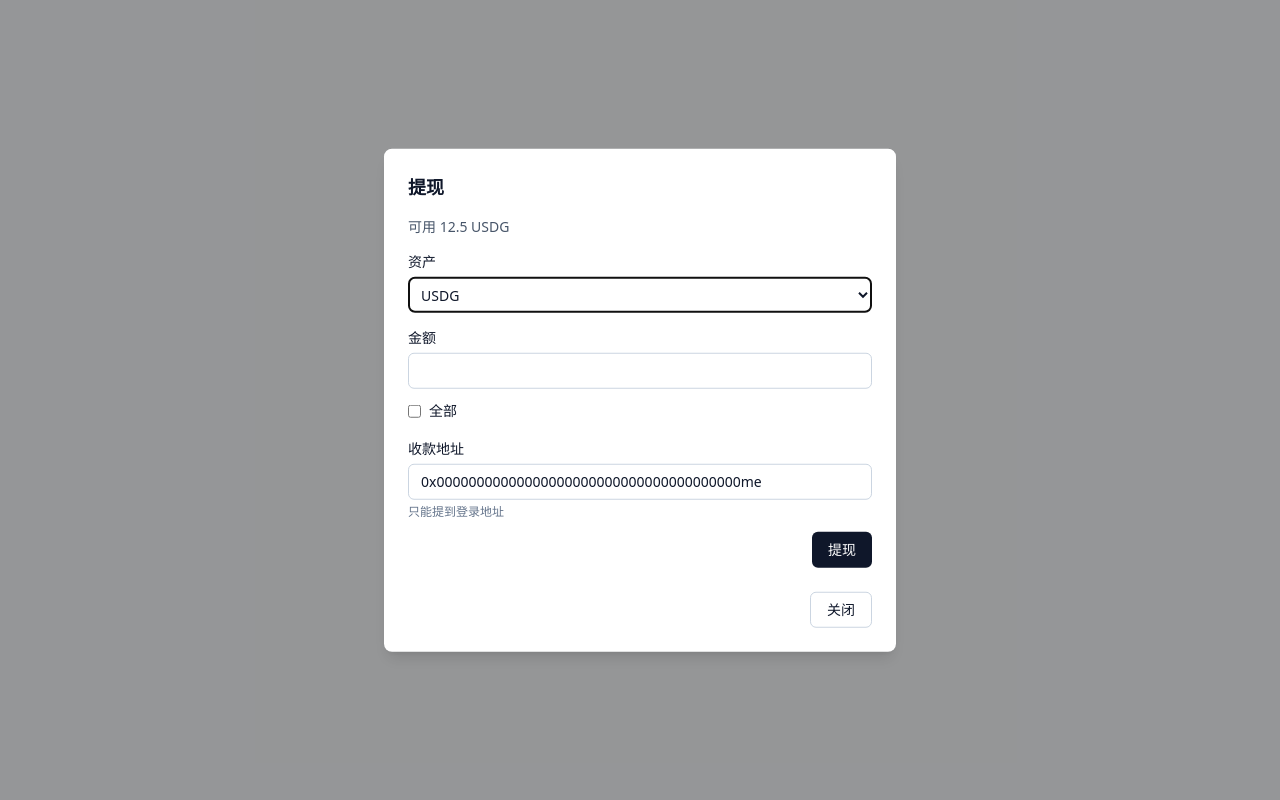
Test: shows mapped 400 errors and FAILED with the backend error text
The image size is (1280, 800).
Type "1" into the field labelled "金额". click: (640, 371)
box: [408,353,872,389]
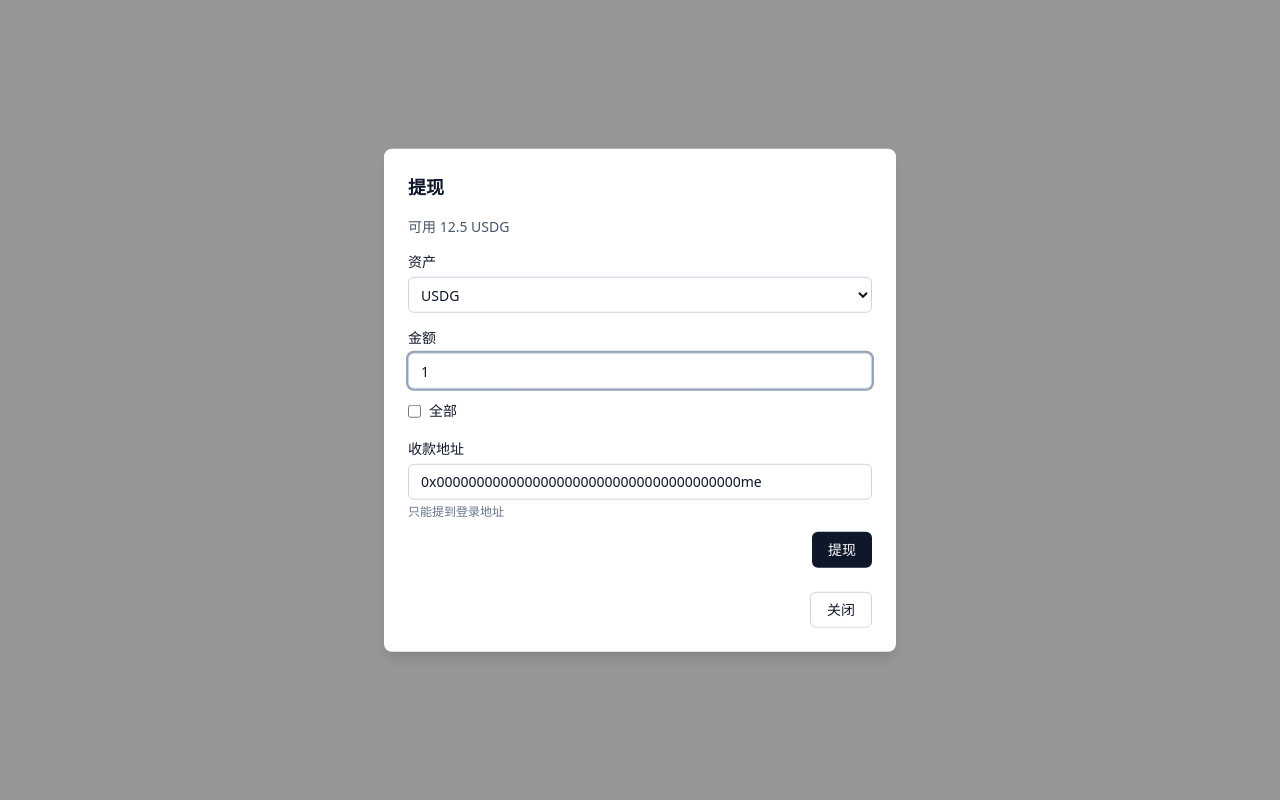
Click the button "提现". click: (842, 549)
box: [812,531,872,567]
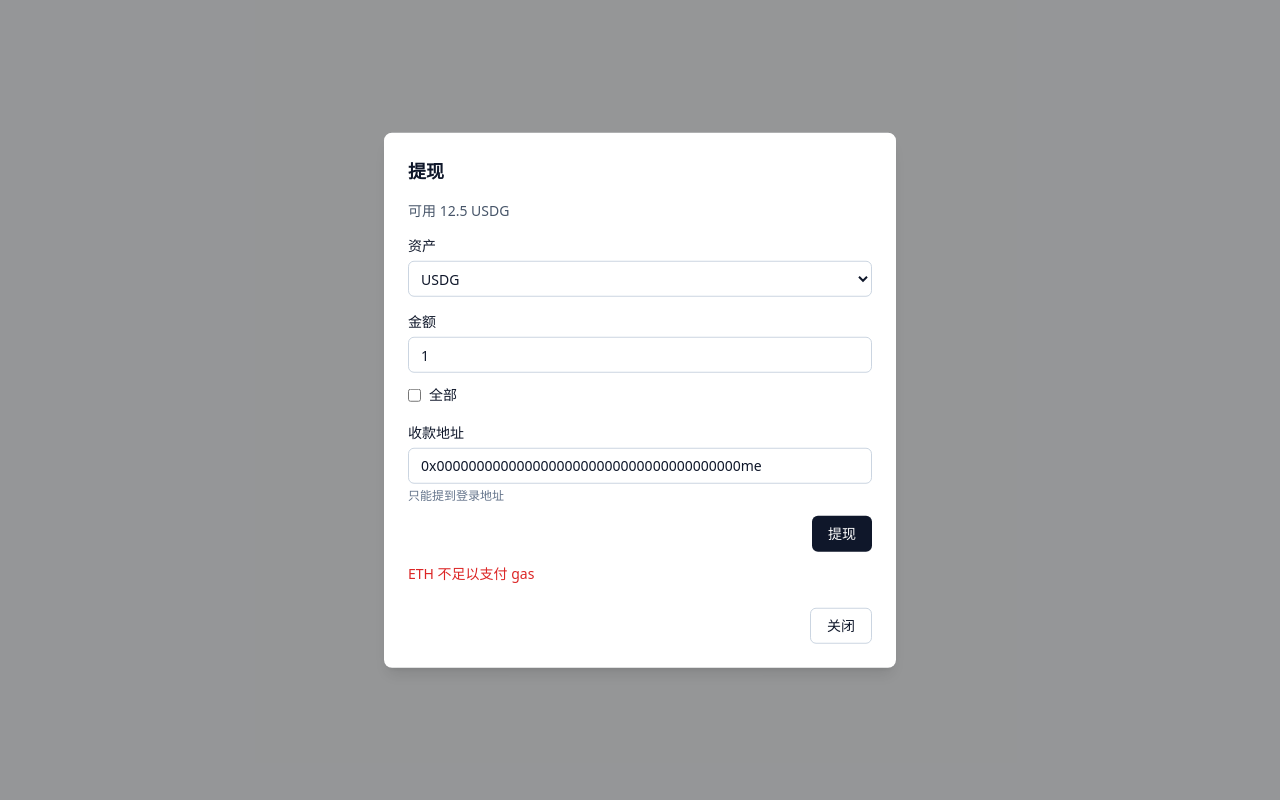
Expected: the text "ETH 不足以支付 gas" is shown, [408,563,534,582]
Click the button "提现". click: (842, 533)
box: [812,515,872,551]
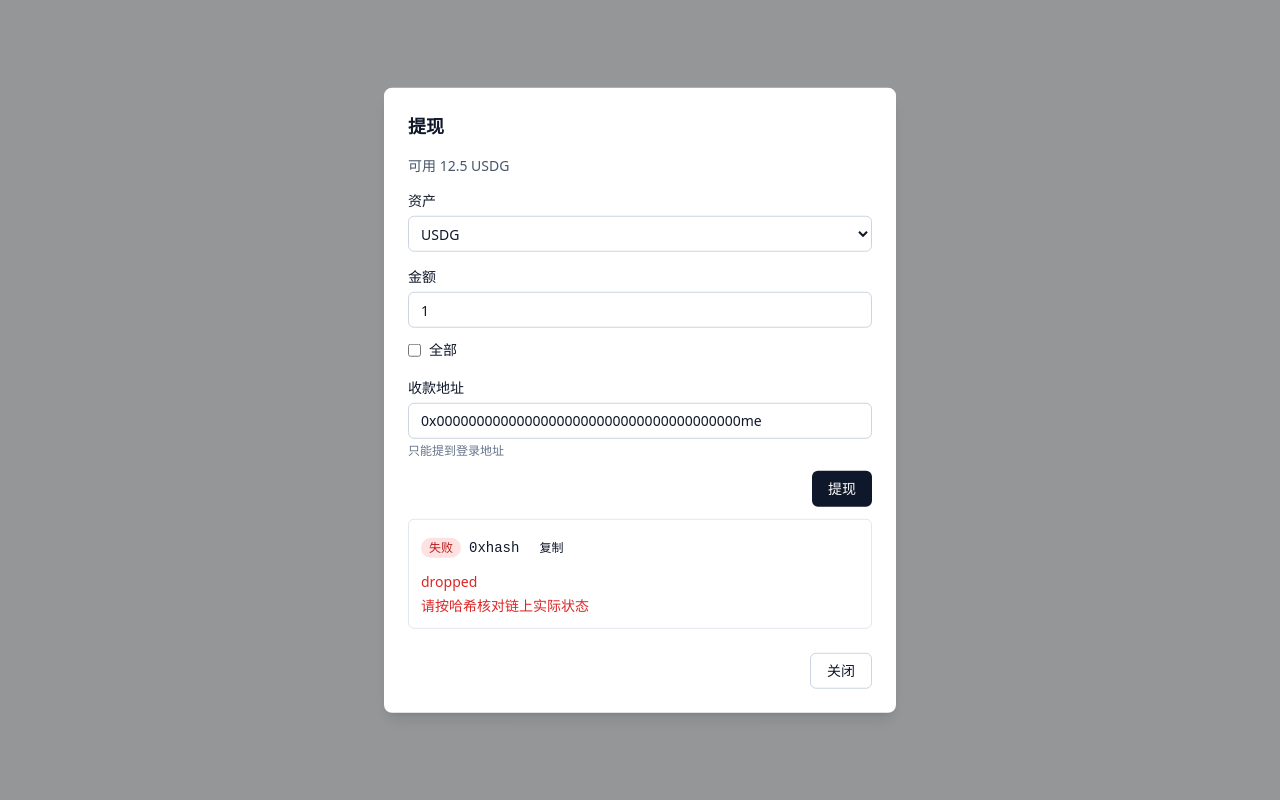
Expected: the text "失败" is shown, [421,537,461,557]
Expected: the text "dropped" is shown, [421,571,477,590]
Expected: the text "请按哈希核对链上实际状态" is shown, [421,595,589,614]
